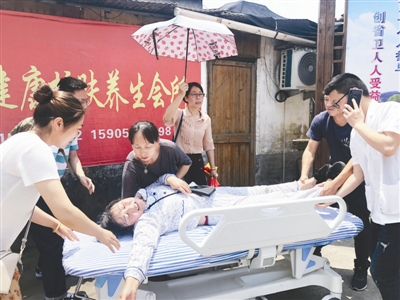fall: (89, 163, 359, 298)
